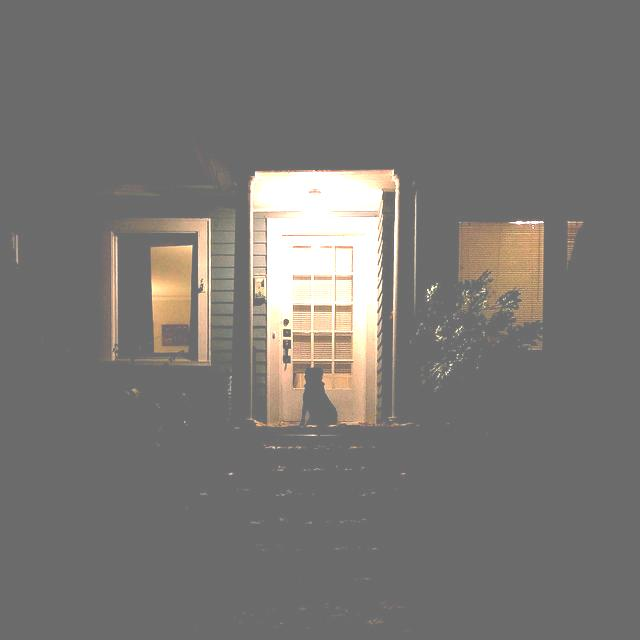Dog: (234, 364, 369, 481)
